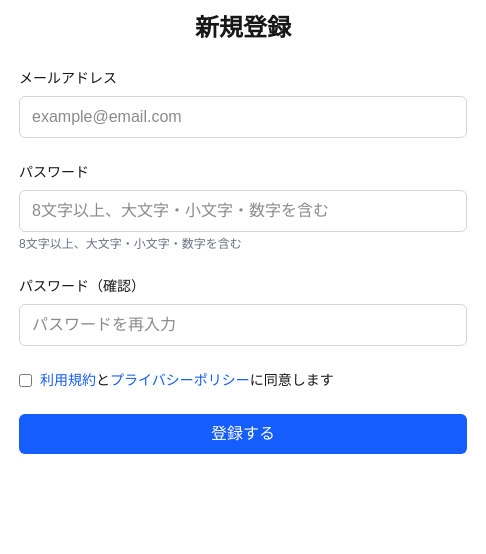
Scenario: SignUpForm › パスワードバリデーション › 8文字未満の場合エラーが表示されること
The image size is (486, 554).
Step 1. Type "test@example.com" into the field labelled "メールアドレス" → (243, 117), box [19,96,467,138]
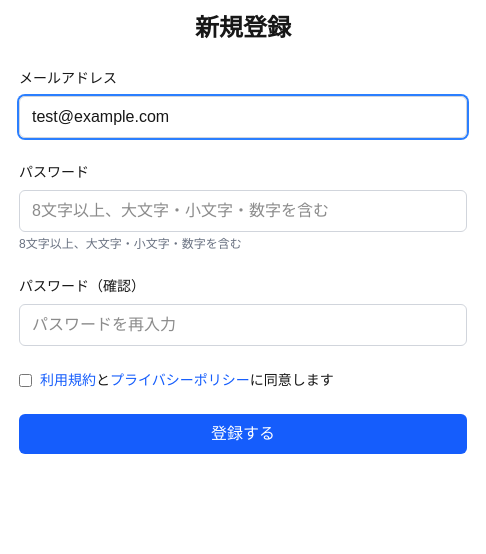
Step 2. Type "Pass12" into the password field labelled "パスワード" → (243, 211), box [19,190,467,232]
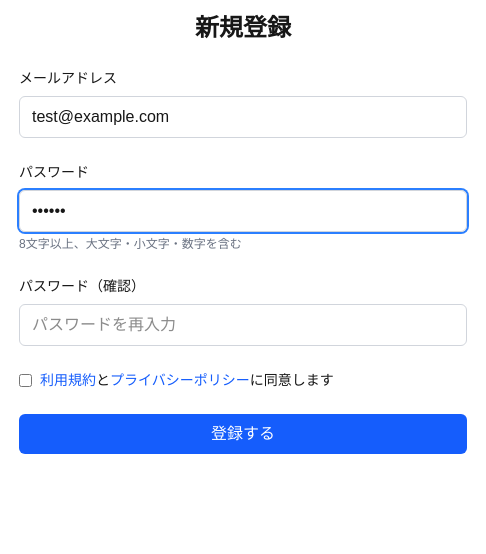
Step 3. Type "Pass12" into the password field labelled "パスワード（確認）" → (243, 325), box [19,304,467,346]
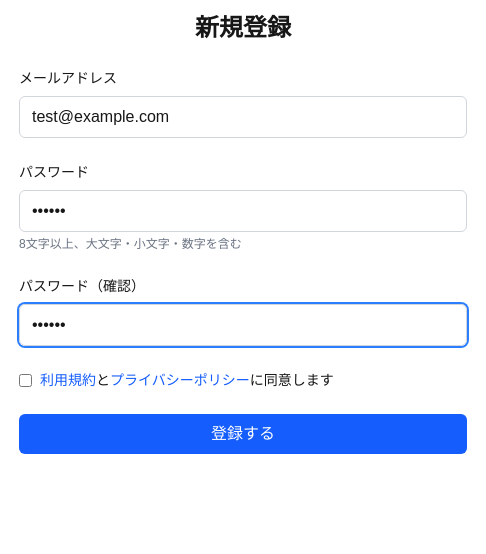
Step 4. Click the checkbox → (26, 380), box [19,374,32,387]
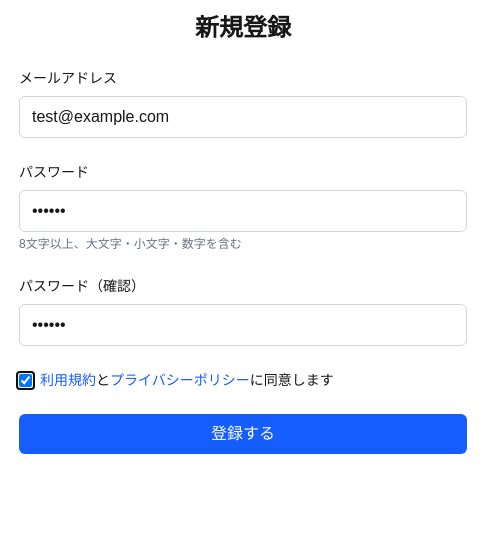
Step 5. Click the button "登録する" → (243, 434), box [19,414,467,454]
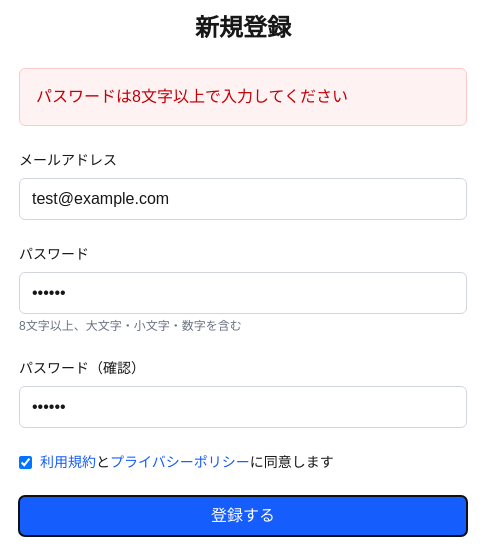
expect the text "パスワードは8文字以上で入力してください" is shown: met, box [19,68,467,126]
